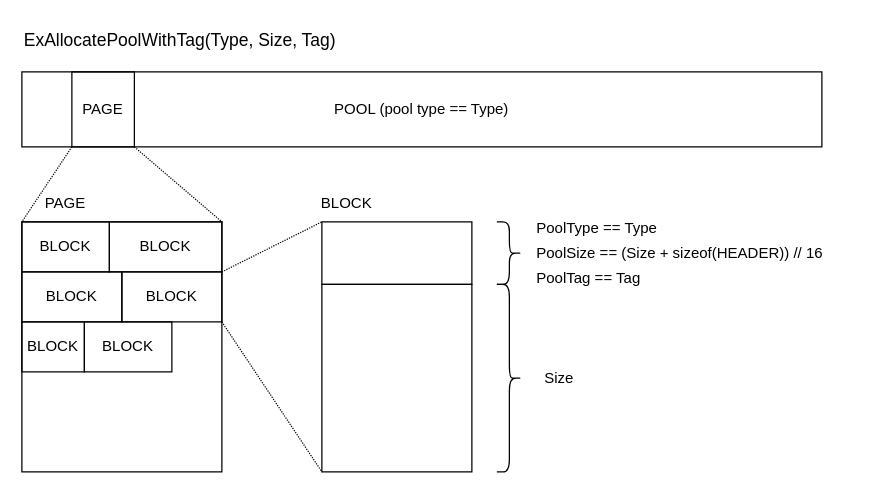
This 869x495 diagram has some shape labels left out. Here are the shapes that lost their labels. From the top down, the centre of each, then its label:
At point 396,252: "HEADER".
At point 396,377: "DATA".
